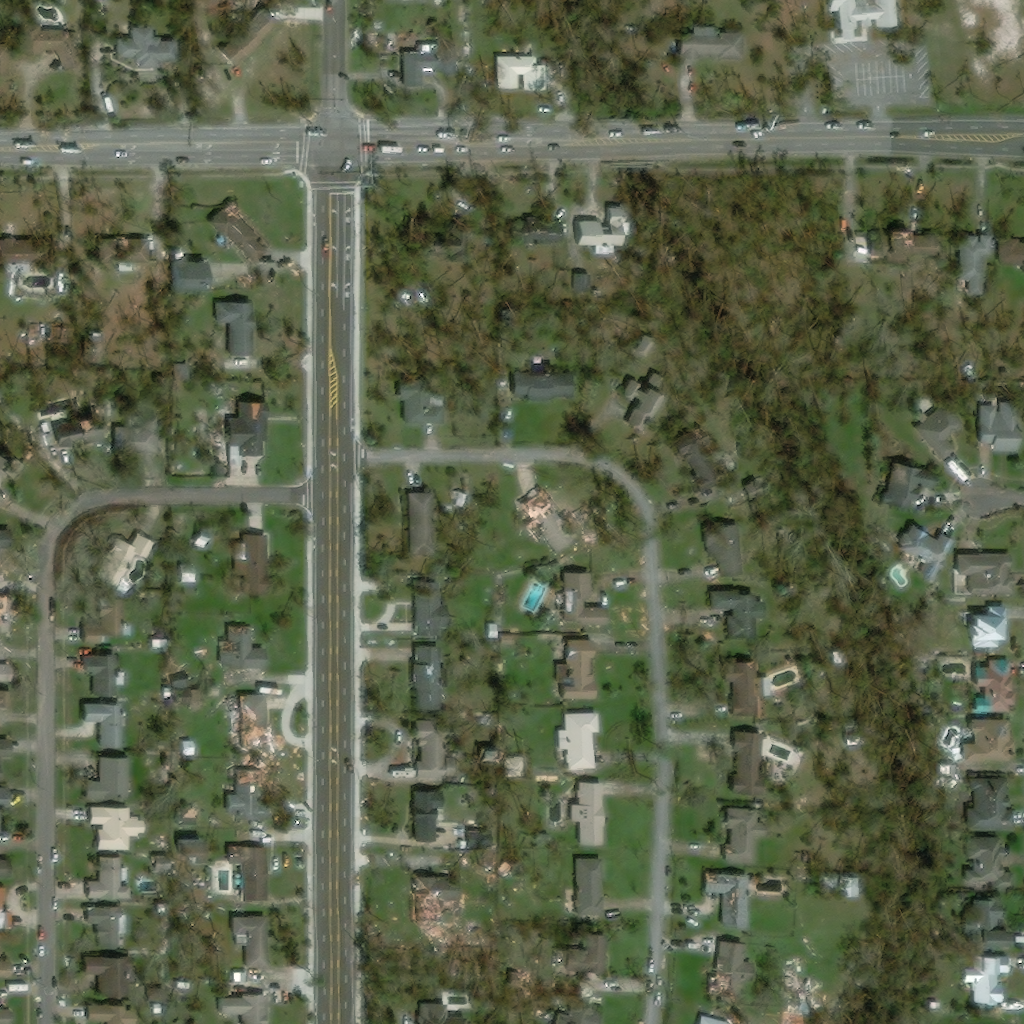destroyed: (509, 865, 525, 877), (487, 856, 498, 868)
major_damage: (520, 488, 576, 553), (404, 873, 461, 924), (701, 939, 747, 1000), (229, 696, 269, 751)
minor_damage: (205, 198, 266, 265), (92, 533, 156, 590), (715, 659, 771, 721), (554, 570, 607, 627), (700, 872, 750, 929), (221, 399, 266, 462), (719, 807, 765, 867), (879, 461, 932, 511), (964, 778, 1014, 831), (227, 846, 269, 903), (494, 210, 557, 246), (560, 641, 599, 699), (217, 626, 267, 670), (226, 767, 264, 824), (410, 646, 441, 711), (0, 240, 58, 273), (49, 415, 103, 444), (98, 238, 146, 268), (864, 230, 914, 258), (577, 930, 609, 973), (412, 1002, 468, 1023), (184, 839, 206, 864), (174, 810, 200, 828), (843, 880, 855, 896), (825, 876, 835, 894), (215, 383, 227, 396)
no_damage: (672, 425, 729, 503), (217, 7, 278, 68), (893, 524, 955, 583), (17, 23, 82, 72), (955, 953, 1008, 1008), (913, 403, 962, 462), (964, 837, 1015, 891), (824, 0, 907, 33), (85, 806, 144, 850), (706, 589, 756, 640), (675, 29, 748, 63), (408, 721, 450, 780), (557, 712, 599, 771), (212, 300, 255, 357), (975, 401, 1021, 454), (970, 659, 1014, 713), (955, 556, 1014, 596), (961, 719, 1014, 763), (700, 523, 743, 577), (568, 783, 603, 849), (394, 378, 442, 426), (80, 757, 129, 803), (400, 46, 450, 91), (80, 703, 126, 749), (83, 857, 131, 901), (729, 733, 761, 795), (574, 858, 607, 918), (115, 27, 161, 70), (230, 916, 268, 968), (81, 598, 123, 645), (235, 533, 266, 596), (963, 606, 1007, 650), (615, 379, 659, 421), (406, 493, 437, 552), (969, 898, 1003, 950), (86, 907, 127, 950), (956, 236, 986, 294), (413, 786, 444, 842), (559, 217, 615, 247), (82, 956, 122, 997), (80, 655, 118, 697), (413, 580, 440, 637), (218, 994, 270, 1023), (125, 415, 159, 455), (168, 262, 209, 291), (514, 371, 551, 403), (0, 457, 23, 505), (85, 1004, 133, 1023), (993, 238, 1023, 268), (561, 1000, 599, 1023), (170, 670, 194, 688), (0, 888, 11, 926), (0, 735, 13, 760), (0, 962, 11, 991), (194, 530, 212, 547), (173, 690, 191, 706), (183, 564, 198, 583), (178, 740, 193, 757), (0, 691, 13, 710), (484, 624, 497, 642), (0, 1008, 15, 1023), (697, 1016, 723, 1023), (95, 0, 110, 11), (0, 665, 8, 684), (235, 971, 249, 981), (174, 249, 186, 259), (0, 789, 8, 803), (0, 863, 8, 877), (151, 1004, 161, 1014), (0, 617, 6, 633), (0, 640, 5, 659), (928, 1002, 938, 1010)
unclassified: (211, 463, 225, 478)
